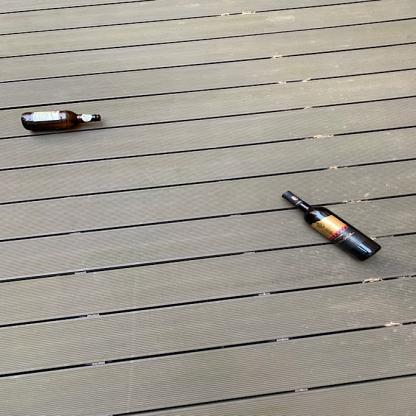trash: (279, 189, 386, 264), (16, 104, 107, 135)
